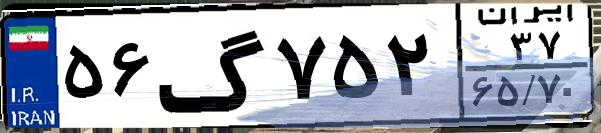0: (560, 70, 590, 125)
2: (385, 28, 445, 110)
3: (508, 27, 537, 80)
5: (330, 28, 385, 110), (57, 26, 110, 100), (495, 70, 520, 125)
6: (110, 28, 156, 98), (470, 70, 495, 125)
7: (270, 28, 330, 110), (537, 27, 568, 80), (535, 70, 560, 125)
گ: (156, 12, 270, 120)
